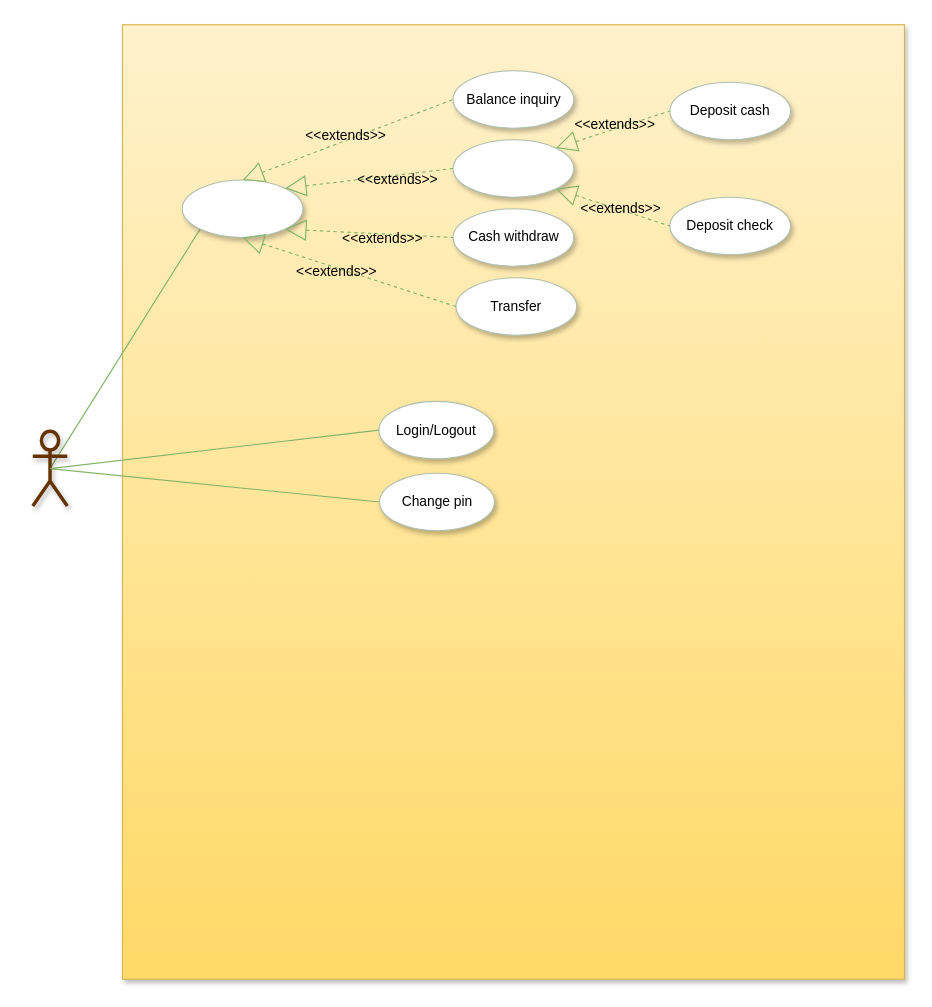
Image size: 932x1007. Some labels were removed from this diagram. Each missing label, with the centre of its shape:
Customer: point (50, 469)
Deposit: point (514, 169)
Transaction: point (243, 210)
